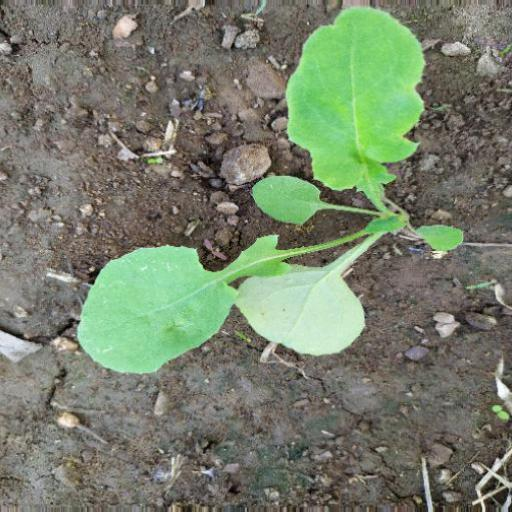crop: (79, 4, 467, 388)
